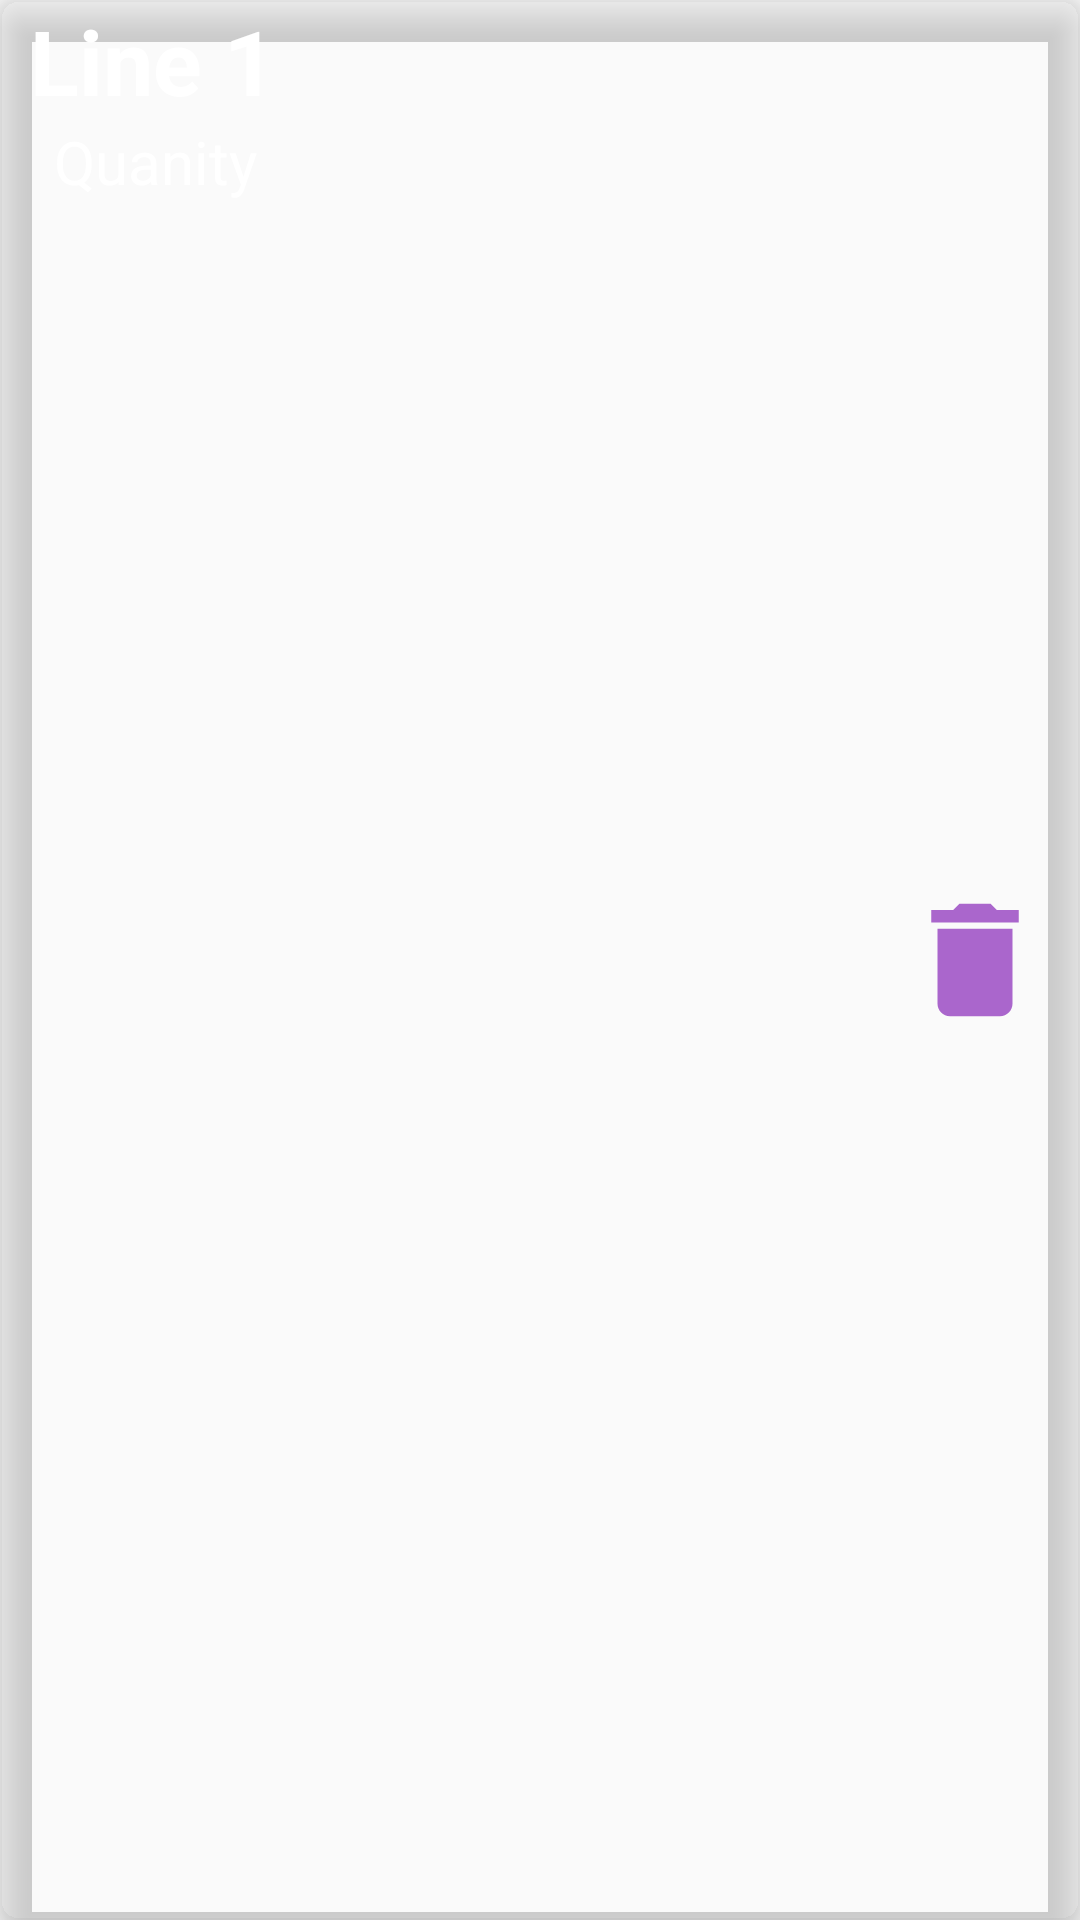

Where to tap for icons on this 1080x1920 app screen, as [x,y]:
delete: [975,960]
